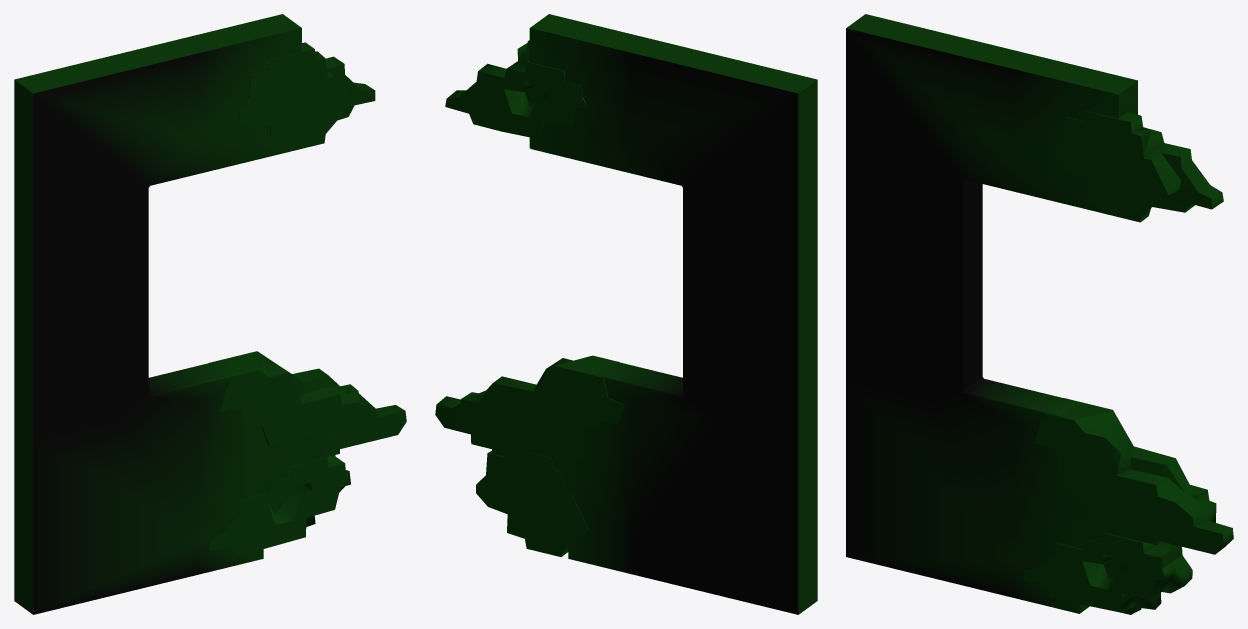
File: DBK_Brick_WinWide_Side.fbx
3 views of the same model, side by side, from view 1: azimuth 30°, elevation 25°; view 2: azimuth 150°, elevation 25°; view 3: azimuth 330°, elevation 25° (orthographic).
Visible parts, largest first — view 1: DBK_Brick_WinWide_Side; view 2: DBK_Brick_WinWide_Side; view 3: DBK_Brick_WinWide_Side.
Boxes of the visible parts, <box> form: DBK_Brick_WinWide_Side: <box>14,14,406,614</box>; DBK_Brick_WinWide_Side: <box>435,14,817,614</box>; DBK_Brick_WinWide_Side: <box>846,14,1233,614</box>.
Bounding box in the file's own units: 225 × 300 × 21.24.
